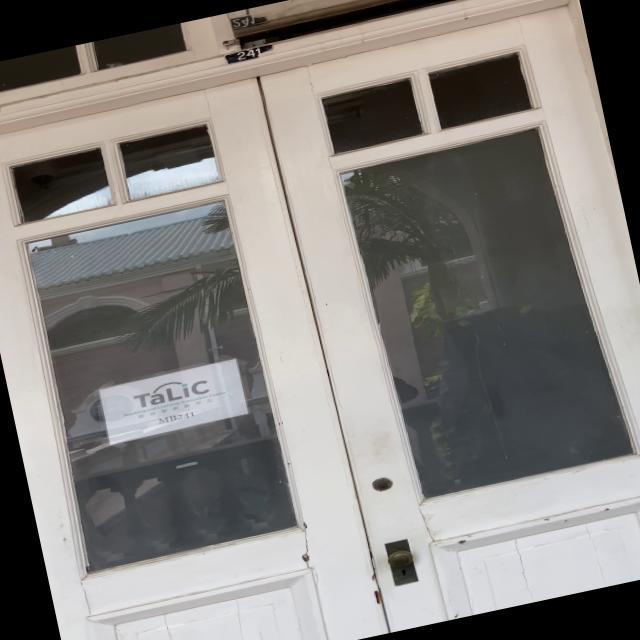room241: (220, 41, 278, 68)
